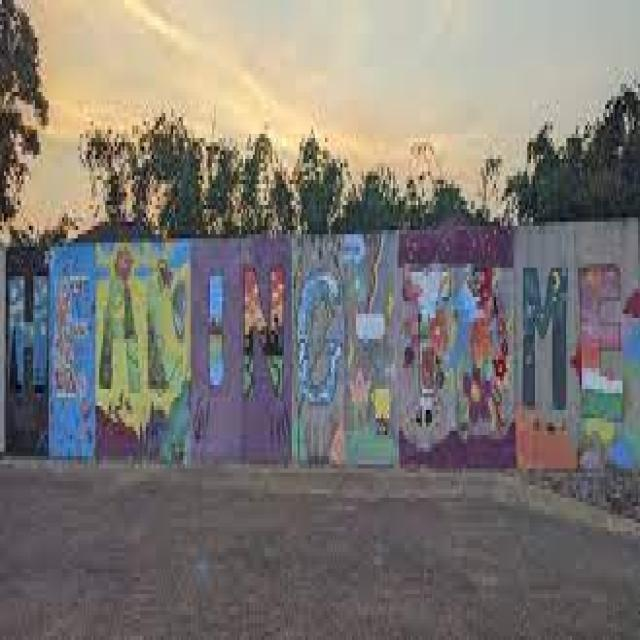-: (296, 233, 399, 461), (96, 242, 188, 448), (399, 259, 512, 426), (524, 257, 635, 419), (100, 262, 181, 408), (238, 264, 287, 403), (51, 262, 91, 408), (2, 281, 44, 411), (300, 268, 331, 408), (210, 268, 226, 387)
